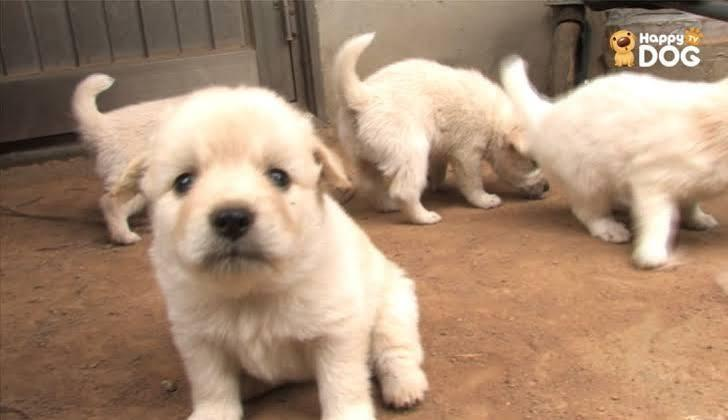puppy-dog: (122, 86, 430, 420), (499, 51, 728, 269), (330, 30, 552, 225), (70, 72, 200, 246)
